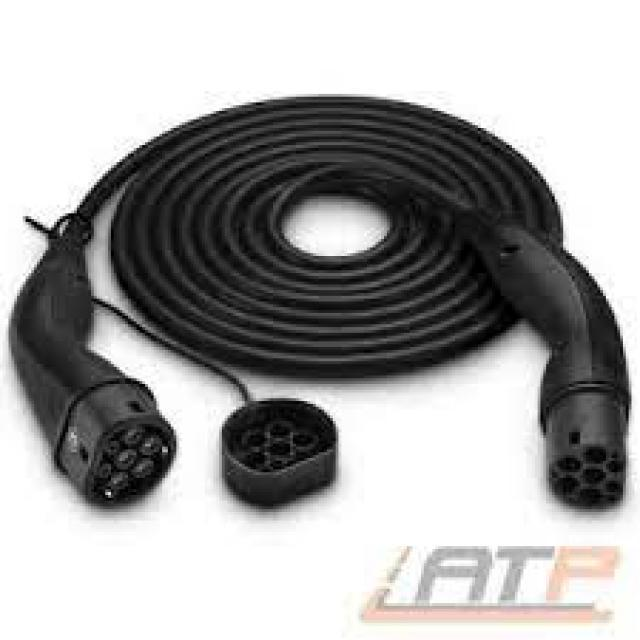Type 2: (70, 405, 186, 539)
